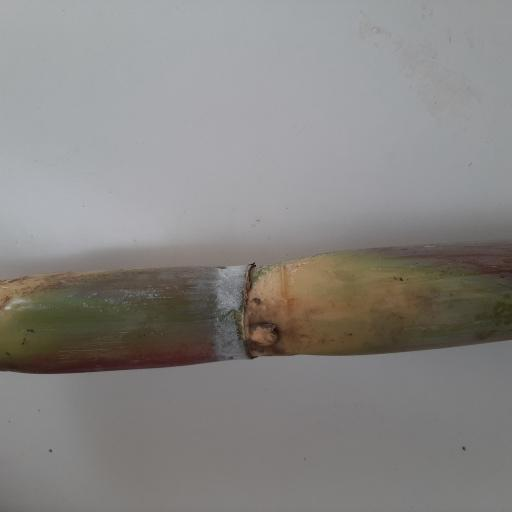Bud: (247, 321, 280, 348)
